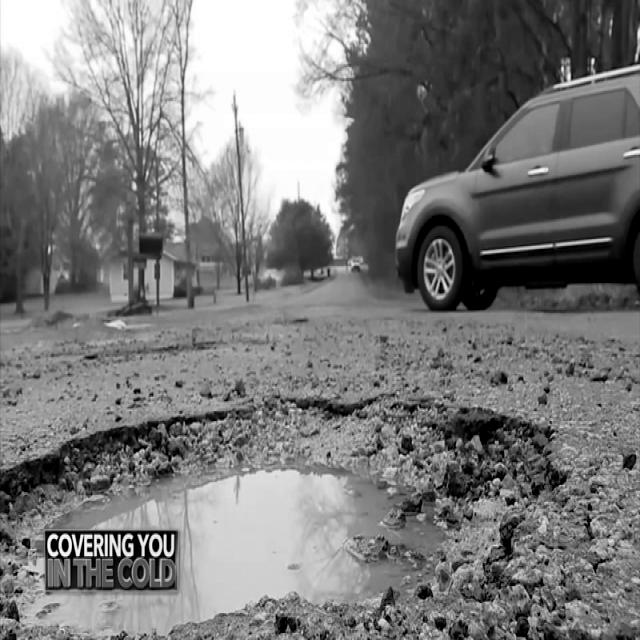pathole: (0, 333, 640, 639)
